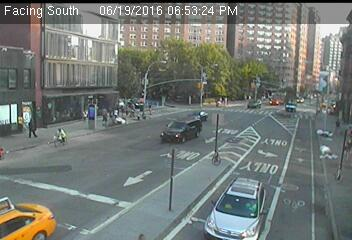neg: (309, 138, 338, 176), (45, 124, 72, 159), (183, 116, 209, 150), (70, 126, 86, 147), (244, 102, 260, 123), (246, 200, 257, 215)
pos: (95, 105, 114, 129), (22, 117, 40, 141), (144, 102, 154, 116)
